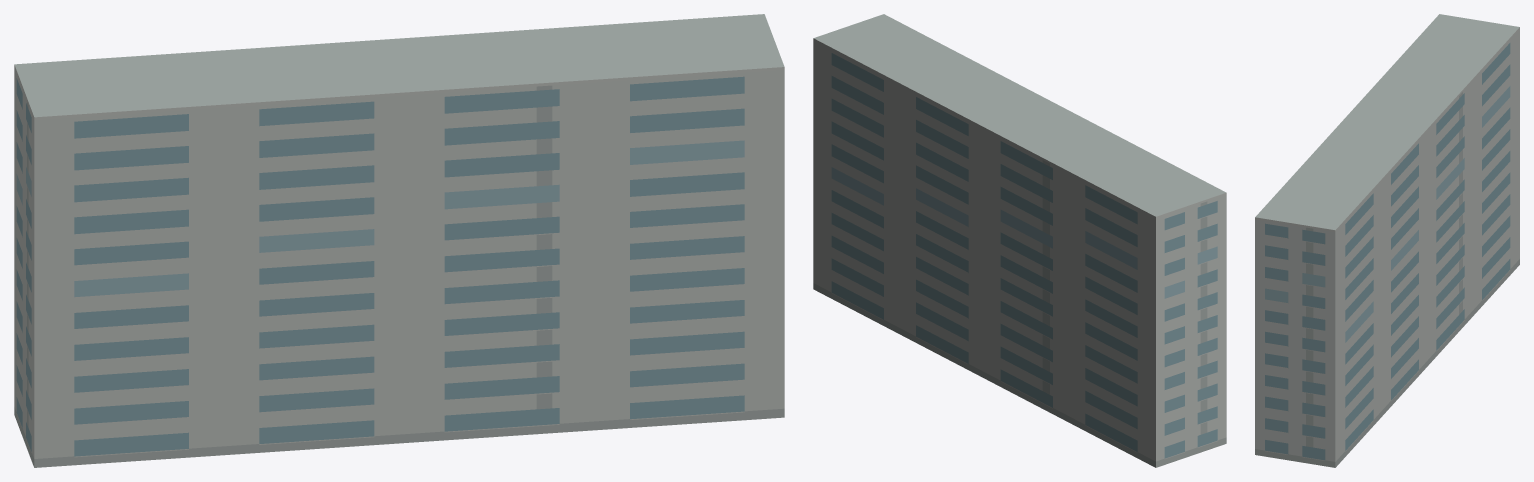
Rendered from residential-c09f68d9-b7ad-4da6-bbb9-8dba1fc0e224.glb.
3 views of the same model, side by side, from view 1: azimuth 30°, elevation 25°; view 2: azimuth 150°, elevation 25°; view 3: azimuth 270°, elevation 25° (orthographic). The views are drawn at different scales.
Visible parts, largest first — view 1: residential-c09f68d9-b7ad-4da6-bbb9-8dba1fc0e224.tmp; view 2: residential-c09f68d9-b7ad-4da6-bbb9-8dba1fc0e224.tmp; view 3: residential-c09f68d9-b7ad-4da6-bbb9-8dba1fc0e224.tmp.
Boxes of the visible parts, x1,y1,x2,y2 form: residential-c09f68d9-b7ad-4da6-bbb9-8dba1fc0e224.tmp: (14, 14, 784, 467); residential-c09f68d9-b7ad-4da6-bbb9-8dba1fc0e224.tmp: (813, 14, 1226, 467); residential-c09f68d9-b7ad-4da6-bbb9-8dba1fc0e224.tmp: (1255, 14, 1519, 467).
Bounding box in the file's own units: 56.59 × 29 × 29.29.
